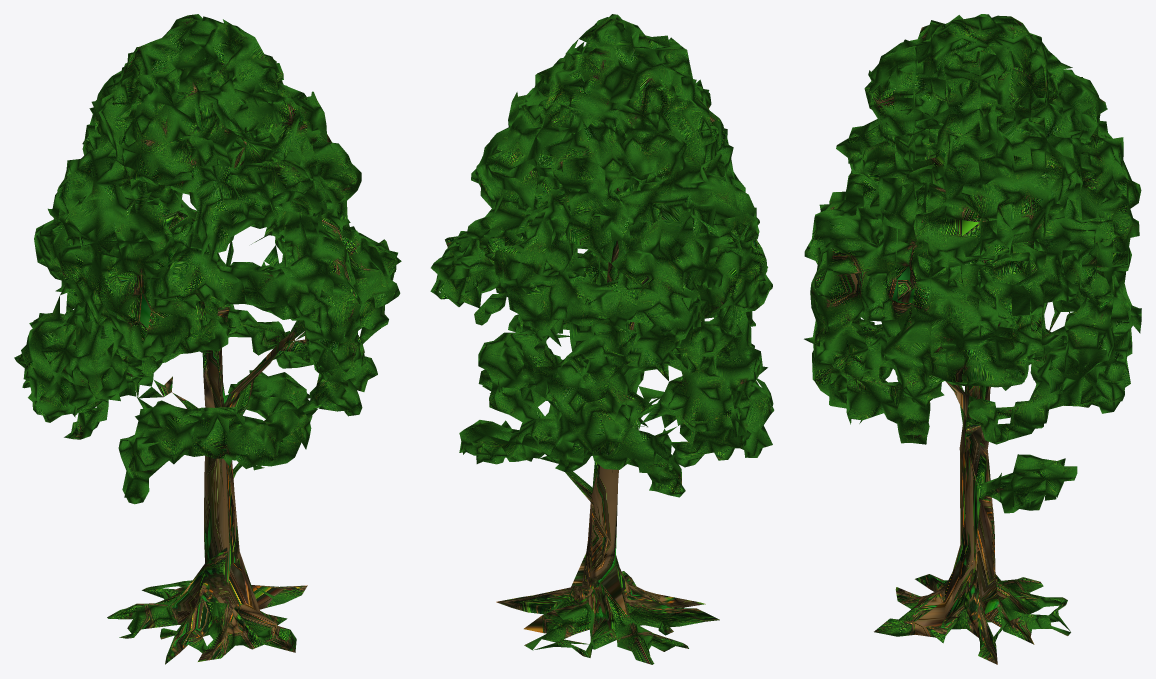
3 views of the same model, side by side, from view 1: azimuth 30°, elevation 25°; view 2: azimuth 150°, elevation 25°; view 3: azimuth 270°, elevation 25° (orthographic).
Bounding box in the file's own units: 1.07 × 1.89 × 0.9649.
Materials: 1 (1 with a texture image).
